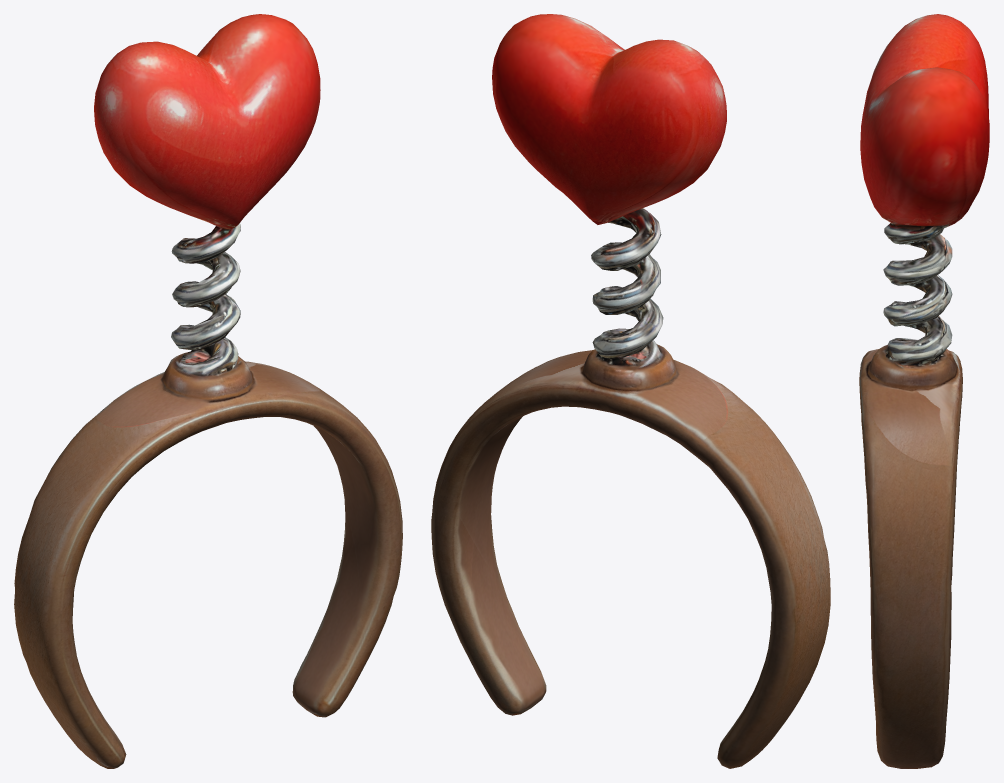
Rendered from hairband_heart.glb.
3 renders of one model, left to right at view 1: azimuth 30°, elevation 25°; view 2: azimuth 150°, elevation 25°; view 3: azimuth 270°, elevation 25°, orthographic. The views are drawn at different scales.
Visible parts, largest first — view 1: texture_mapping; view 2: texture_mapping; view 3: texture_mapping.
Boxes of the visible parts, x1,y1,x2,y2 form: texture_mapping: (14,14,402,768); texture_mapping: (431,14,830,768); texture_mapping: (859,14,989,768).
Size of the model in its own units: 0.5473 by 0.9994 by 0.1748.
Materials: 1 (1 with a texture image).
